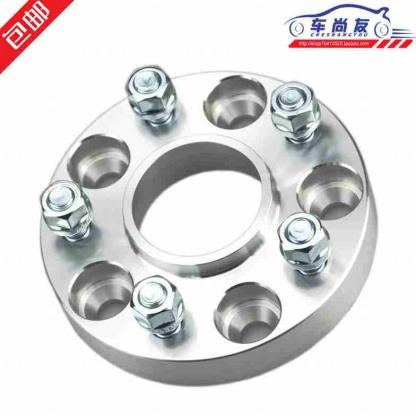FOD: (28, 60, 382, 390)
